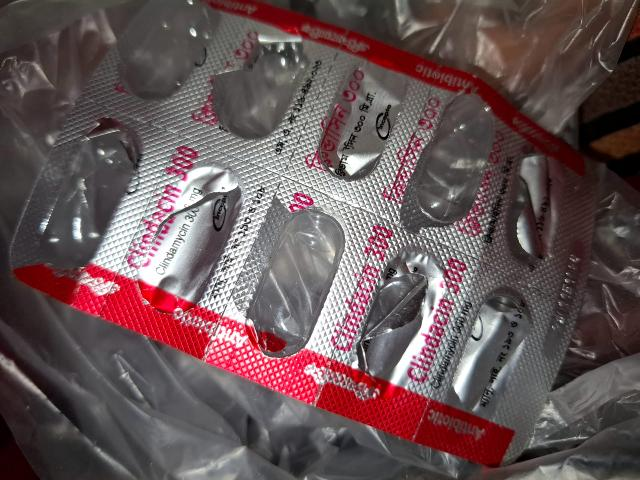medicine: (13, 0, 636, 460)
